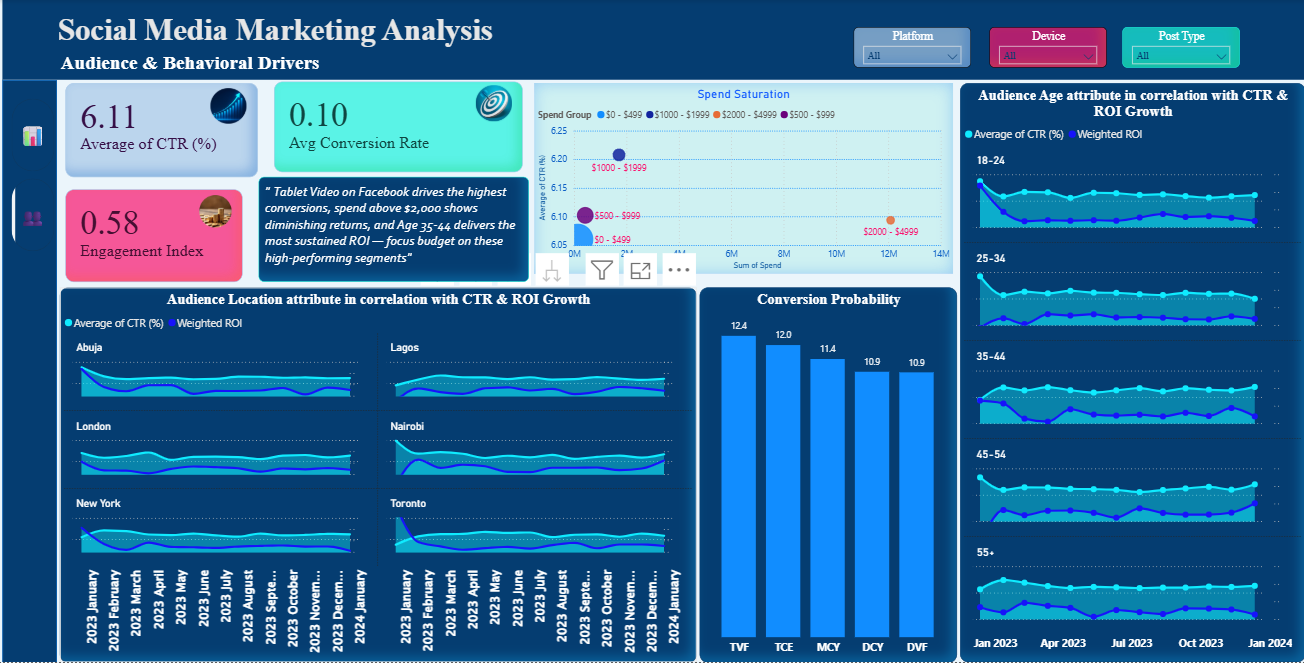

The page's visual inventory and layout, read from the dashboard file:
{"tool":"powerbi","page":{"name":"👥","canvas":[1820,920],"ordinal":1},"visuals":[{"type":"shape","box":[11.7,112.6,75.7,807.8],"z":0},{"type":"group","id":"g1","title":"Group 2","box":[388.4,114.6,345.6,126.2],"z":0,"group":"g6"},{"type":"group","id":"g2","title":"Group 1","box":[388.4,114.6,345.6,126.2],"z":0,"group":"g1"},{"type":"multiRowCard","fields":{"Values":["Sheet1.Avg Conversion Rate"]},"box":[388.4,114.6,344.8,125.5],"z":0,"group":"g2"},{"type":"multiRowCard","fields":{"Values":["Avg(Sheet1.CTR (%))"]},"box":[99,116.5,267.2,130.6],"z":0,"group":"g4"},{"type":"group","id":"g3","title":"Group 1","box":[99,264.1,245.9,128.6],"z":0,"group":"g5"},{"type":"multiRowCard","fields":{"Values":["Sheet1.EngagementIndex"]},"box":[99,264.1,245.9,128.6],"z":0,"group":"g3"},{"type":"shape","box":[11.7,0,1807.8,112],"z":1000},{"type":"image","box":[649.6,114.6,85.4,60.2],"z":1000,"group":"g6"},{"type":"image","box":[295.5,116.5,59.7,63.5],"z":1000,"group":"g4"},{"type":"image","box":[279.8,264.1,55,60.8],"z":1000,"group":"g5"},{"type":"pageNavigator","box":[18.7,127.8,64.6,232.5],"z":2000},{"type":"textbox","box":[83.3,14.4,641.6,70.3],"z":3000},{"type":"textbox","box":[87.4,68,646.6,77.7],"z":4000},{"type":"slicer","title":"Platform","fields":{"Values":["Sheet1.Platform"]},"box":[1192.3,38.8,163.1,56.3],"z":5000},{"type":"slicer","title":"Device","fields":{"Values":["Sheet1.Device"]},"box":[1380.6,38.8,163.1,56.3],"z":6000},{"type":"slicer","title":"Post Type","fields":{"Values":["Calendar.Month","Sheet1.Post_Type"]},"box":[1565.1,38.8,163.1,56.3],"z":7000},{"type":"group","id":"g4","title":"Group 1","box":[99,116.5,267.2,130.6],"z":8000},{"type":"group","id":"g5","title":"Group 2","box":[99,264.1,244.7,128.2],"z":9000},{"type":"group","id":"g6","title":"Group 3","box":[388.4,114.6,345.6,126.2],"z":10000},{"type":"columnChart","title":"Conversion Probability","fields":{"Category":["Sheet1.Combo"],"Y":["Sheet1.Clicks Conversion Prob"]},"box":[979,400,357.3,520.4],"z":11000},{"type":"scatterChart","title":"Spend Saturation","fields":{"X":["Sum(Sheet1.Spend)"],"Series":["Sheet1.Spend Group"],"Y":["Avg(Sheet1.CTR (%))"],"Size":["Avg(Sheet1.ROI)"]},"box":[750,116.5,580.6,264.1],"z":12000},{"type":"areaChart","title":"Audience Age attribute in correlation with CTR & ROI Growth","fields":{"Category":["Calendar.Date.Variation.Date Hierarchy.Year","Calendar.Date.Variation.Date Hierarchy.Month"],"Y":["Avg(Sheet1.CTR (%))"],"Y2":["Sheet1.Weighted ROI"],"Rows":["Sheet1.Audience_AgeGroup"]},"box":[1339.8,116.5,479.6,803.9],"z":13000},{"type":"areaChart","title":"Audience Location attribute in correlation with CTR & ROI Growth","fields":{"Category":["Calendar.Date.Variation.Date Hierarchy.Year","Calendar.Date.Variation.Date Hierarchy.Month"],"Y":["Avg(Sheet1.CTR (%))"],"Y2":["Sheet1.Weighted ROI"],"Rows":["Sheet1.Audience_Location"]},"box":[91.3,400,883.5,520.4],"z":14000},{"type":"textbox","box":[367,246.6,374.8,145.6],"z":15000}]}

Visuals, with their boxes in screenshot pixels (x1, y1, x2, y2), scaled from the page's 1820x920 canvas onto the 1304x663 screenshot:
shape: 8,81,63,662
"Group 2" group: 278,83,526,174
"Group 1" group: 278,83,526,174
multiRowCard - Sheet1.Avg Conversion Rate: 278,83,525,173
multiRowCard - Avg(Sheet1.CTR (%)): 71,84,262,178
"Group 1" group: 71,190,247,283
multiRowCard - Sheet1.EngagementIndex: 71,190,247,283
shape: 8,0,1303,81
image: 465,83,527,126
image: 212,84,254,130
image: 200,190,240,234
pageNavigator: 13,92,60,260
textbox: 60,10,519,61
textbox: 63,49,526,105
"Platform" slicer: 854,28,971,69
"Device" slicer: 989,28,1106,69
"Post Type" slicer: 1121,28,1238,69
"Group 1" group: 71,84,262,178
"Group 2" group: 71,190,246,283
"Group 3" group: 278,83,526,174
"Conversion Probability" columnChart: 701,288,957,662
"Spend Saturation" scatterChart: 537,84,953,274
"Audience Age attribute in correlation with CTR & ROI Growth" areaChart: 960,84,1303,662
"Audience Location attribute in correlation with CTR & ROI Growth" areaChart: 65,288,698,662
textbox: 263,178,531,283
